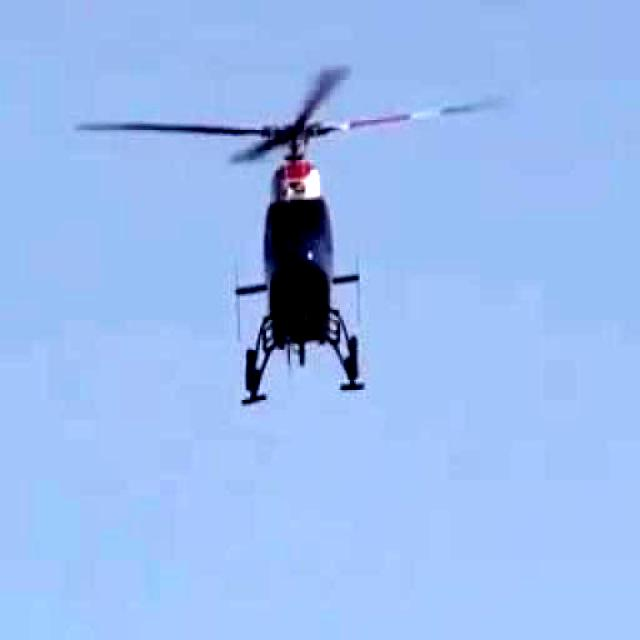drone: (120, 38, 476, 425)
